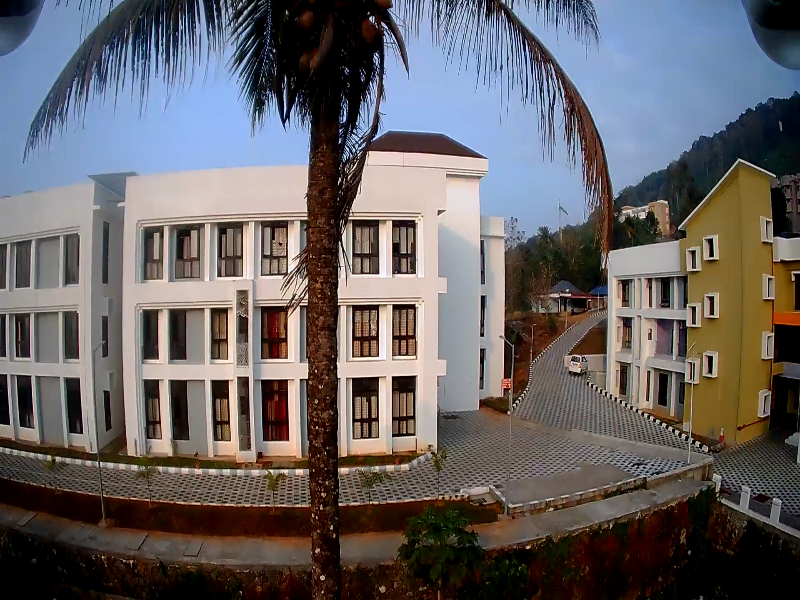coconut: (359, 19, 384, 47), (309, 48, 330, 79), (297, 12, 321, 30), (378, 1, 398, 17), (298, 50, 308, 73)
